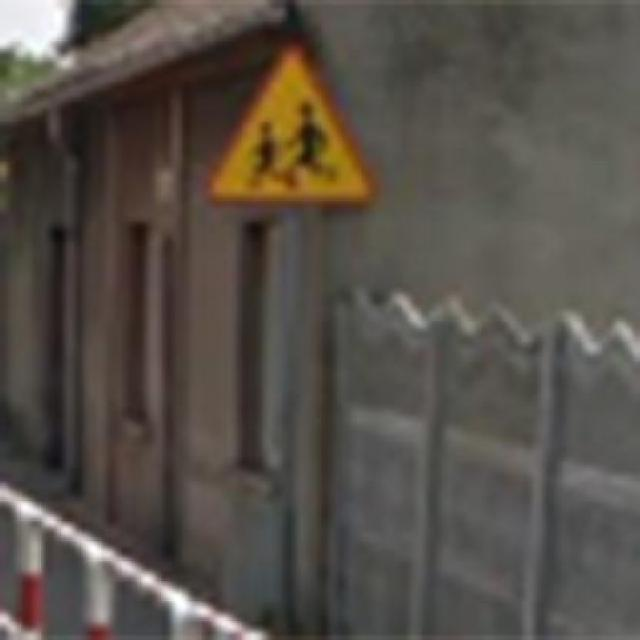Dzieci: (202, 40, 376, 206)
